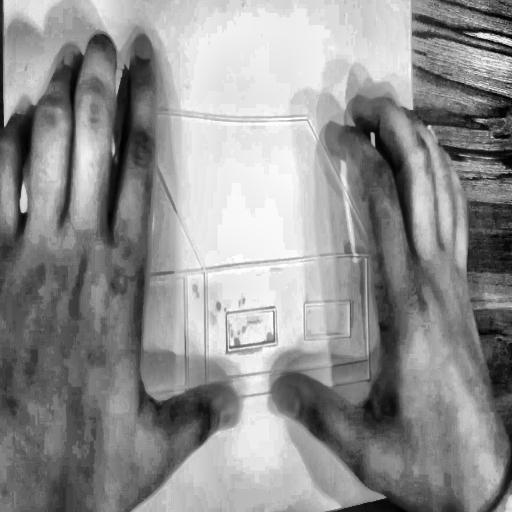house: (53, 43, 400, 454)
